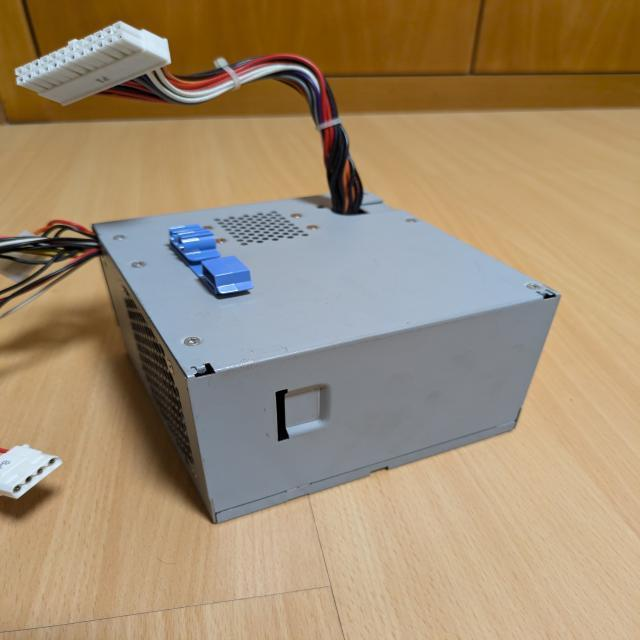PSU: (91, 187, 564, 524)
